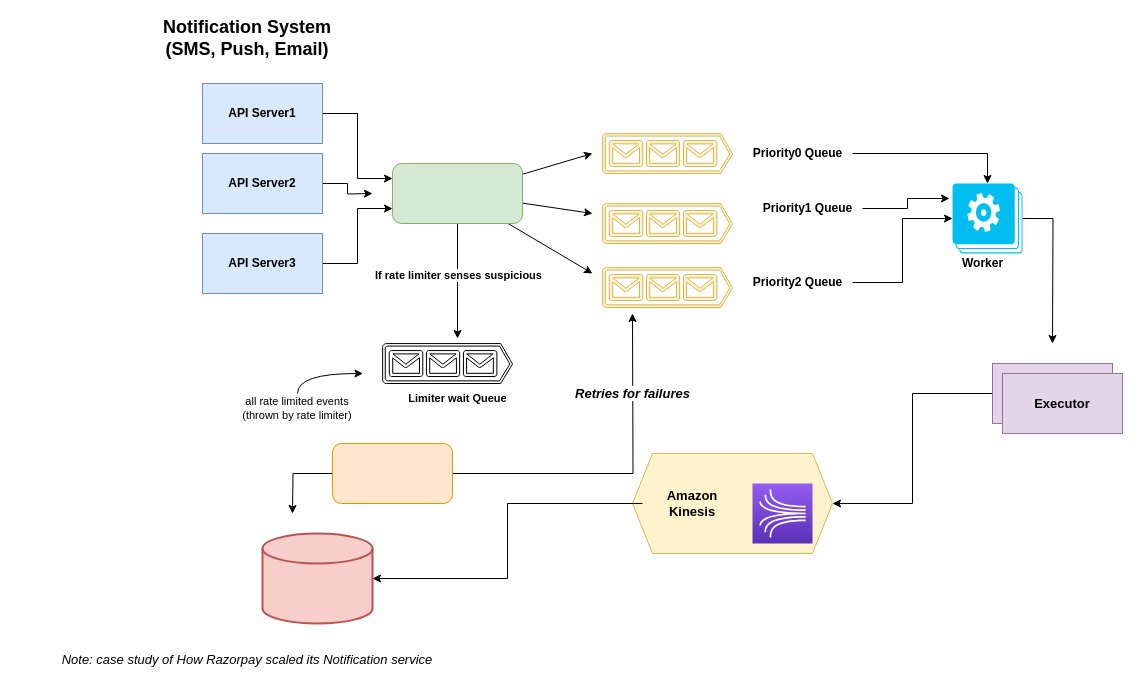
This 1140x691 diagram has some shape labels left out. Here are the shapes that lost their labels. From the top down, the centre of each, then its label:
At (457,193): "Limiter".
At (392,473): "Scheduler".
At (317,578): "DB".
